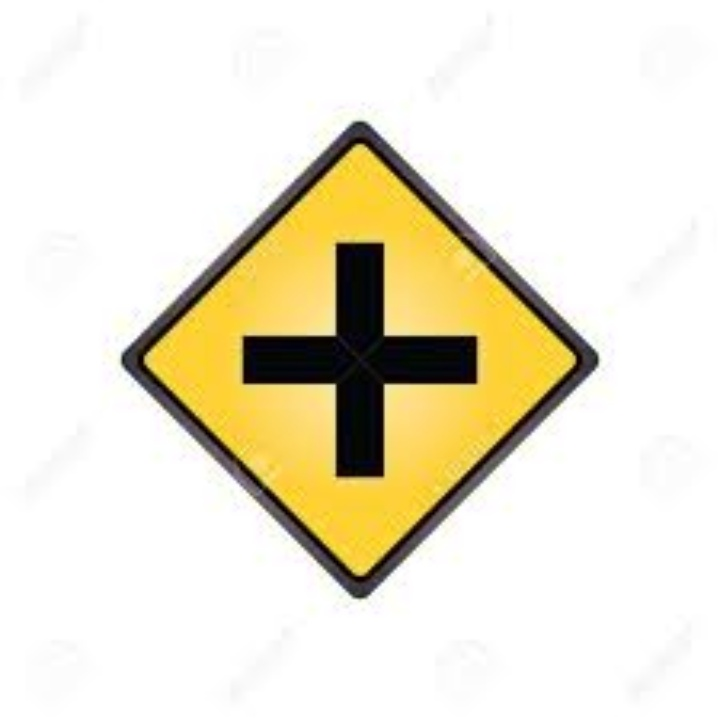inter: (227, 228, 498, 483)
